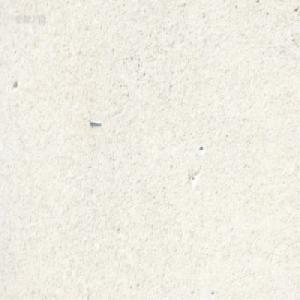Nail: (88, 117, 101, 125)
